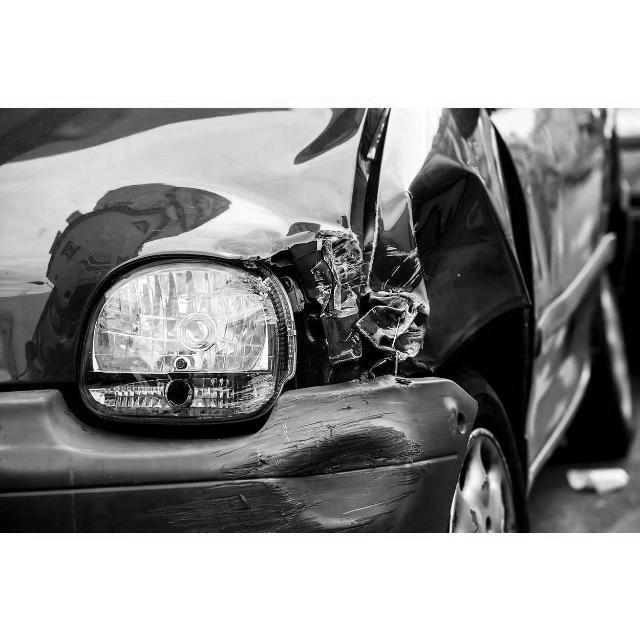Headlight-damage: (81, 273, 286, 428)
bonnet-dent: (257, 219, 369, 299)
fender-dent: (376, 113, 526, 378)
front-bumper-dent: (191, 382, 453, 533)
